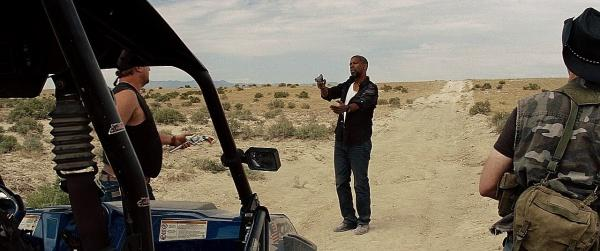Gun: (169, 133, 215, 155), (315, 74, 324, 84)
